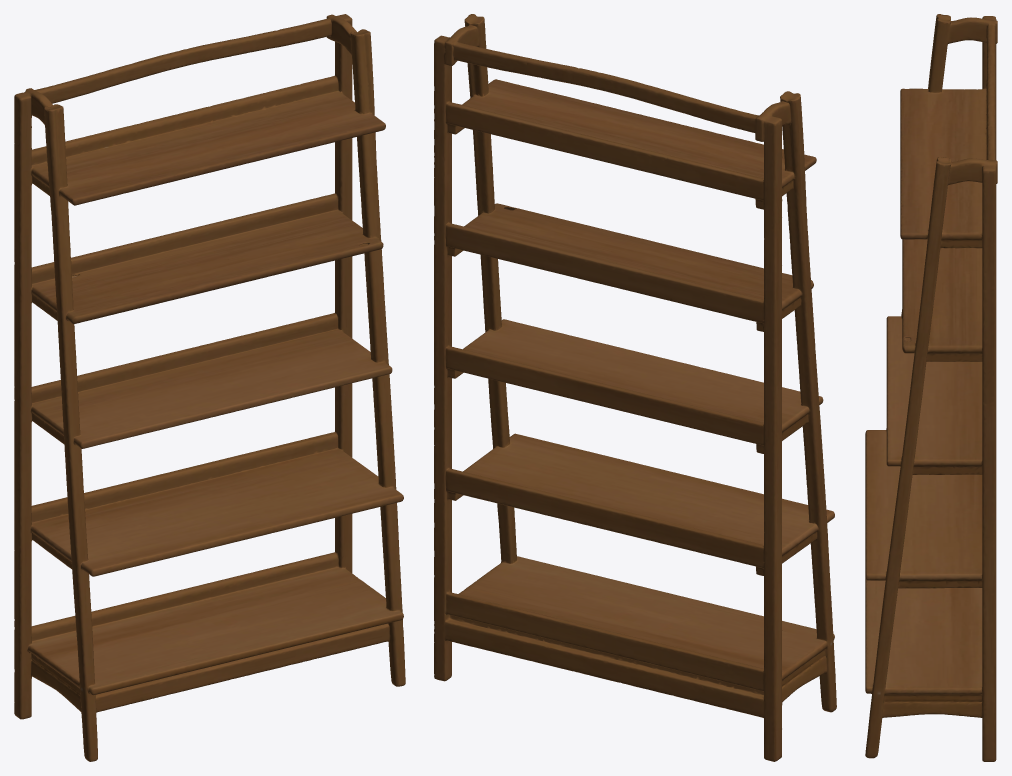
Rendered from Natural Wood Ladder Bookshelf 3D Model.glb.
3 views of the same model, side by side, from view 1: azimuth 30°, elevation 25°; view 2: azimuth 150°, elevation 25°; view 3: azimuth 270°, elevation 25° (orthographic). The views are drawn at different scales.
Visible parts, largest first — view 1: world; view 2: world; view 3: world.
Boxes of the visible parts, <box> form: world: <box>14,14,405,761</box>; world: <box>434,14,836,761</box>; world: <box>865,14,997,761</box>.
Size of the model in its own units: 0.5575 by 1 by 0.2012.
Materials: 1 (1 with a texture image).
